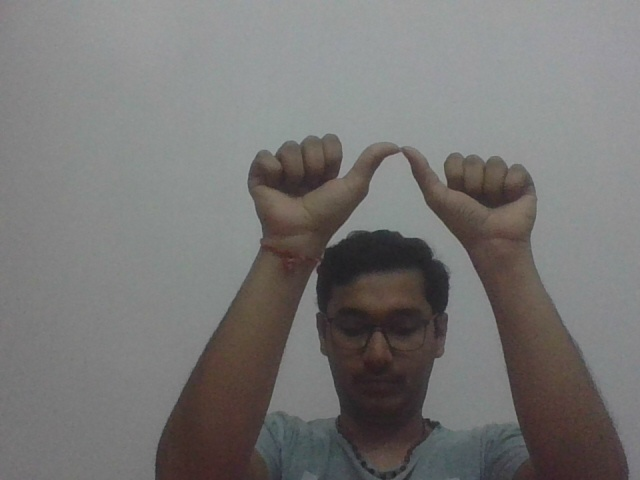A: (237, 132, 554, 252)
